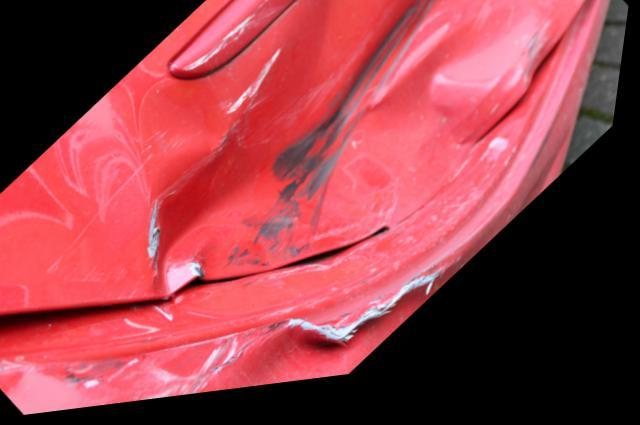dent: (97, 0, 593, 307), (247, 251, 500, 396)
